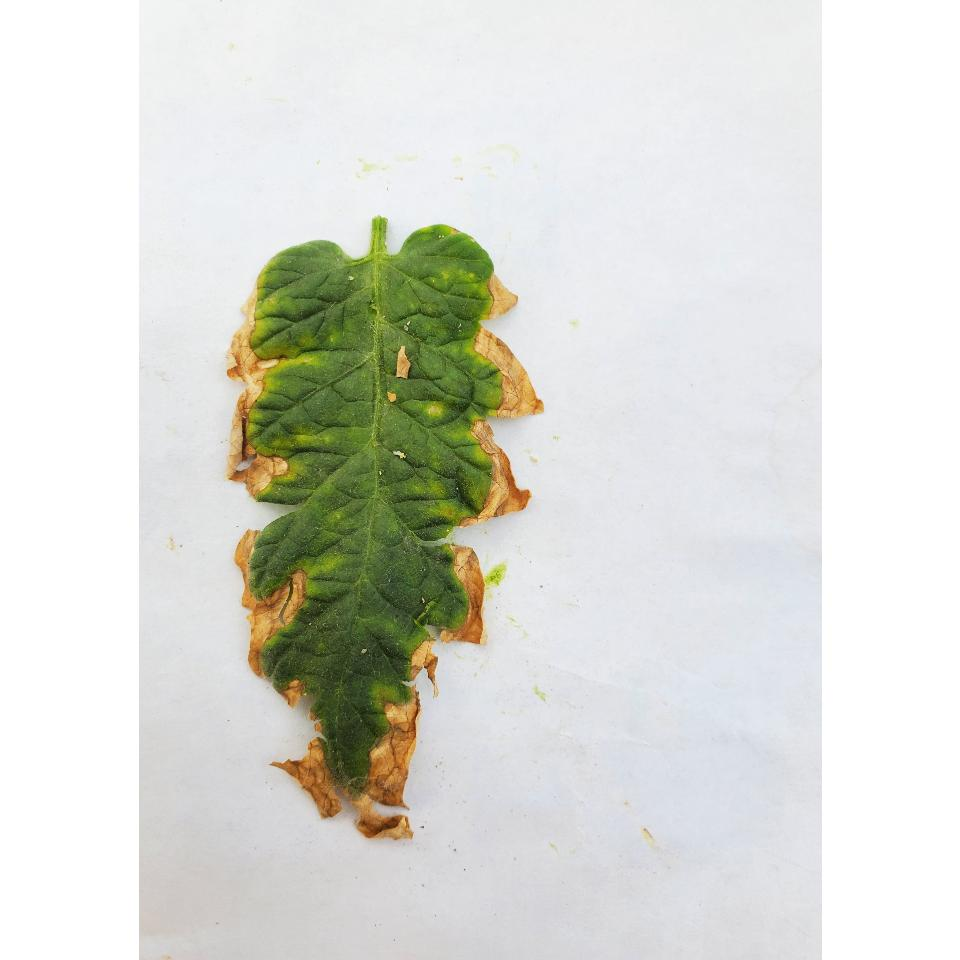tomato_bacterial_blight: (228, 209, 550, 848)
